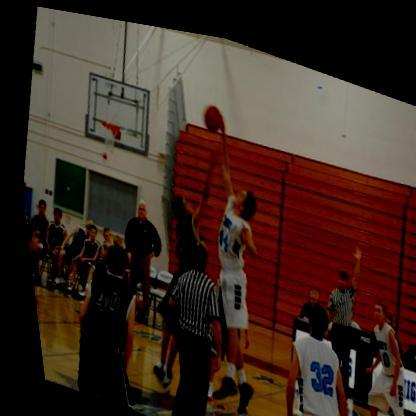basketball: (192, 87, 225, 128)
rim: (97, 116, 117, 129)
